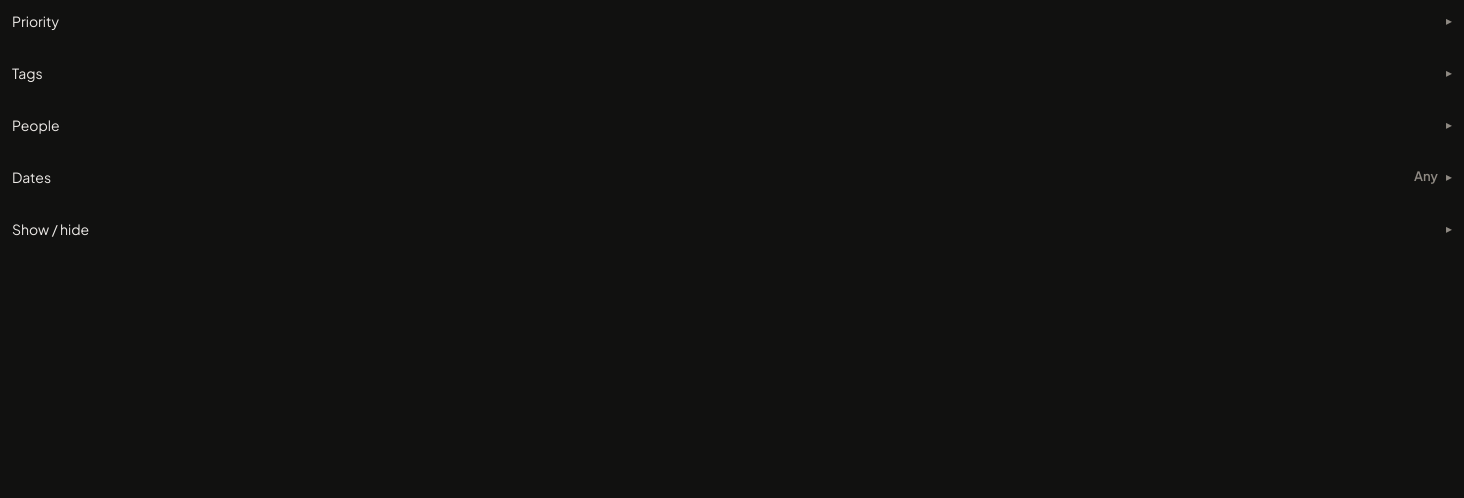
the filter pickers’ clear × › the phone sheet’s People search gets the × too
The image size is (1464, 498).
Click the text "People" at (36,125), box [12,114,60,136]
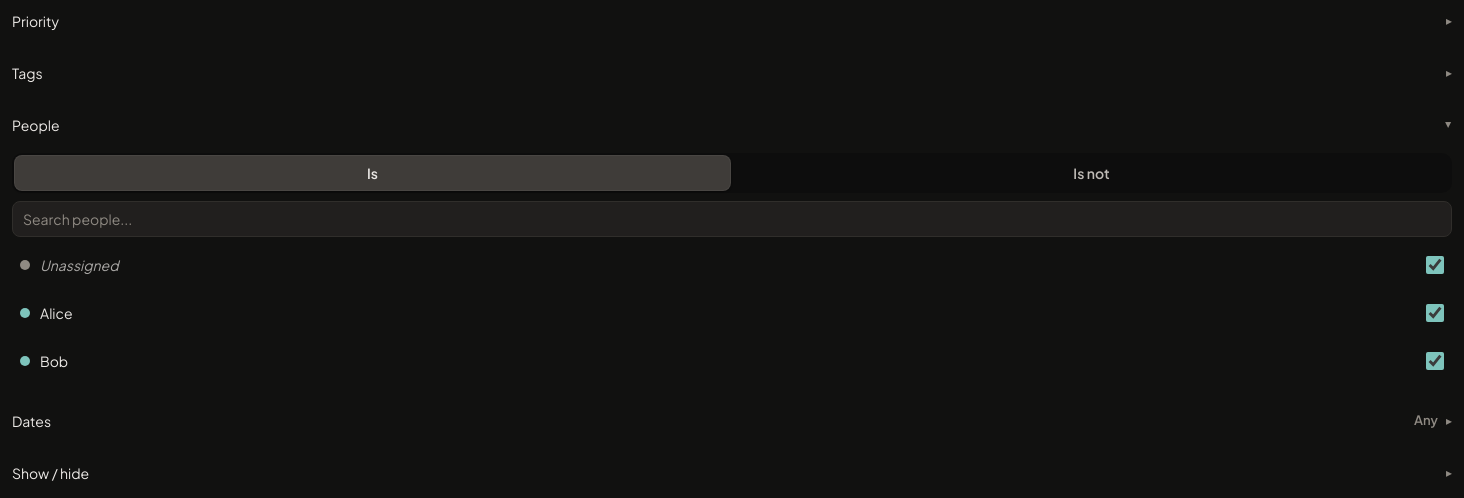
Type "bo" into the field with placeholder "Search people..." at (732,219), box [12,201,1452,237]
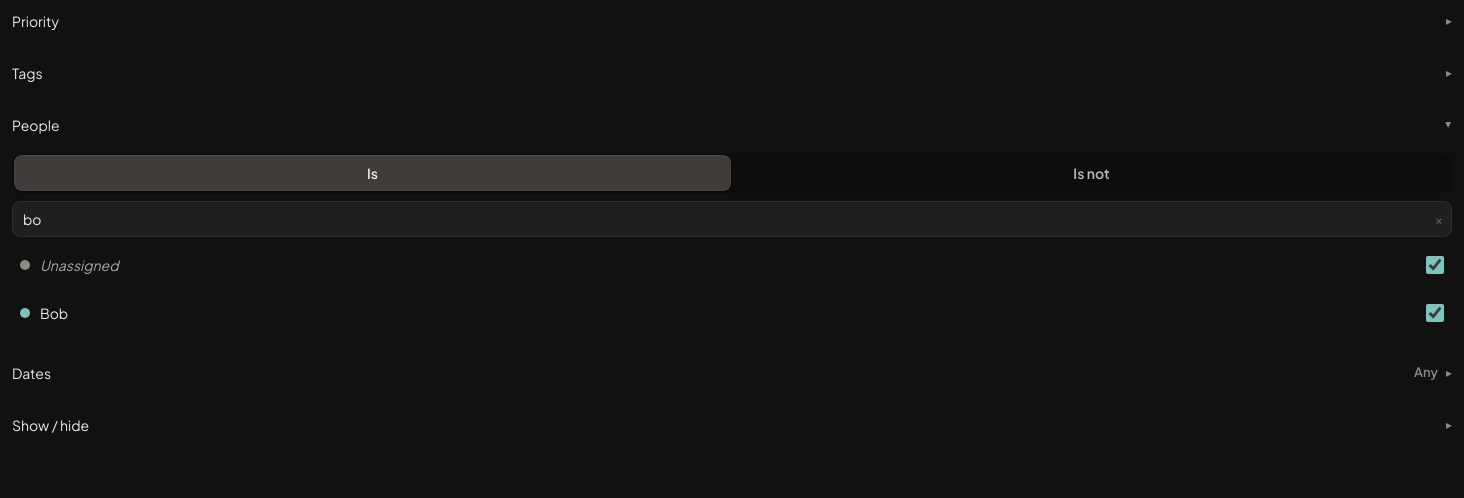
expect the text "Alice" is gone: met
Click the button named "Clear search" at (1439,219), box [1431,211,1447,227]
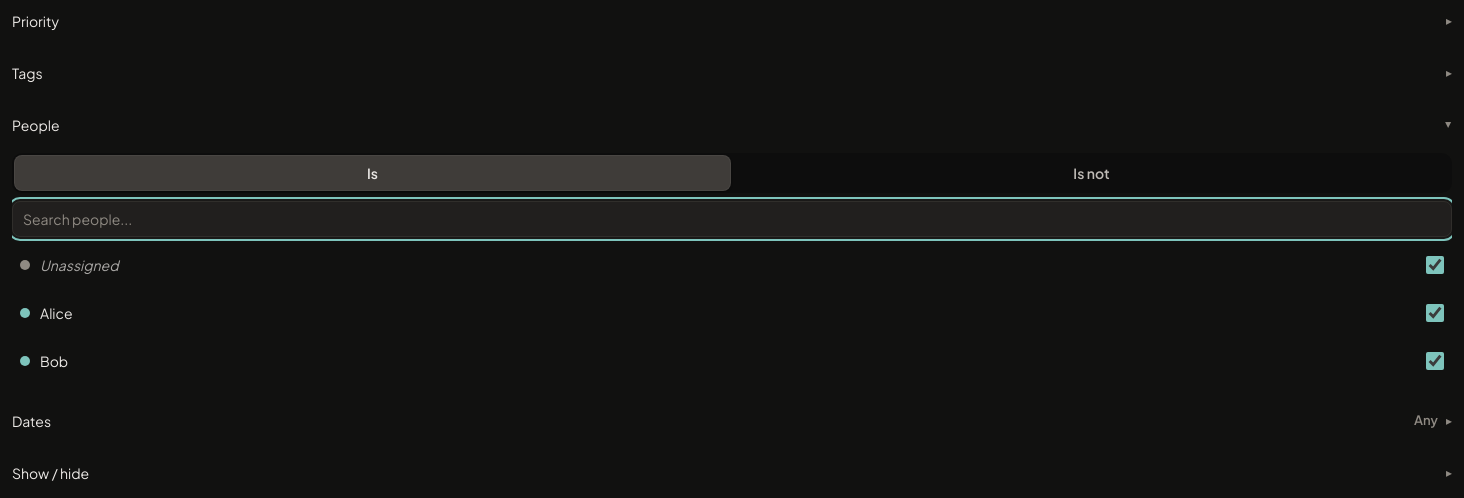
expect the field with placeholder "Search people..." is empty: met, box [12,201,1452,237]
expect the text "Alice" is shown: met, box [40,304,73,322]
